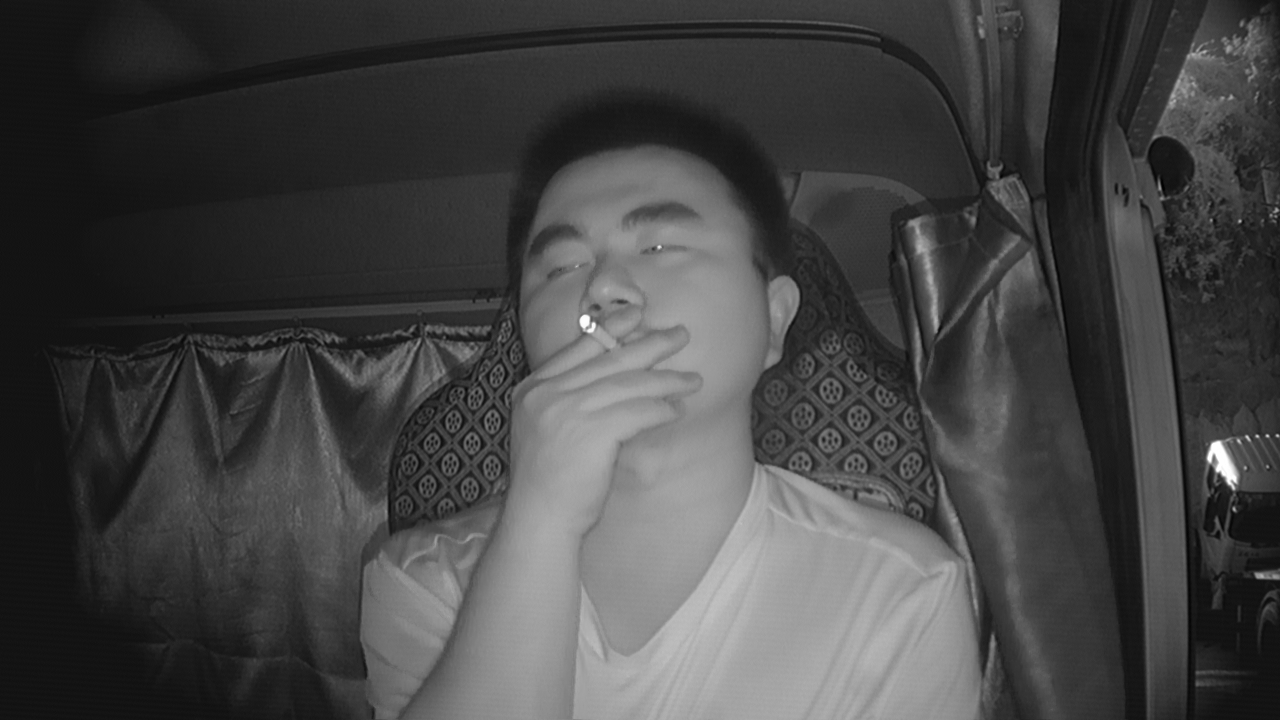hand: (540, 311, 689, 453)
